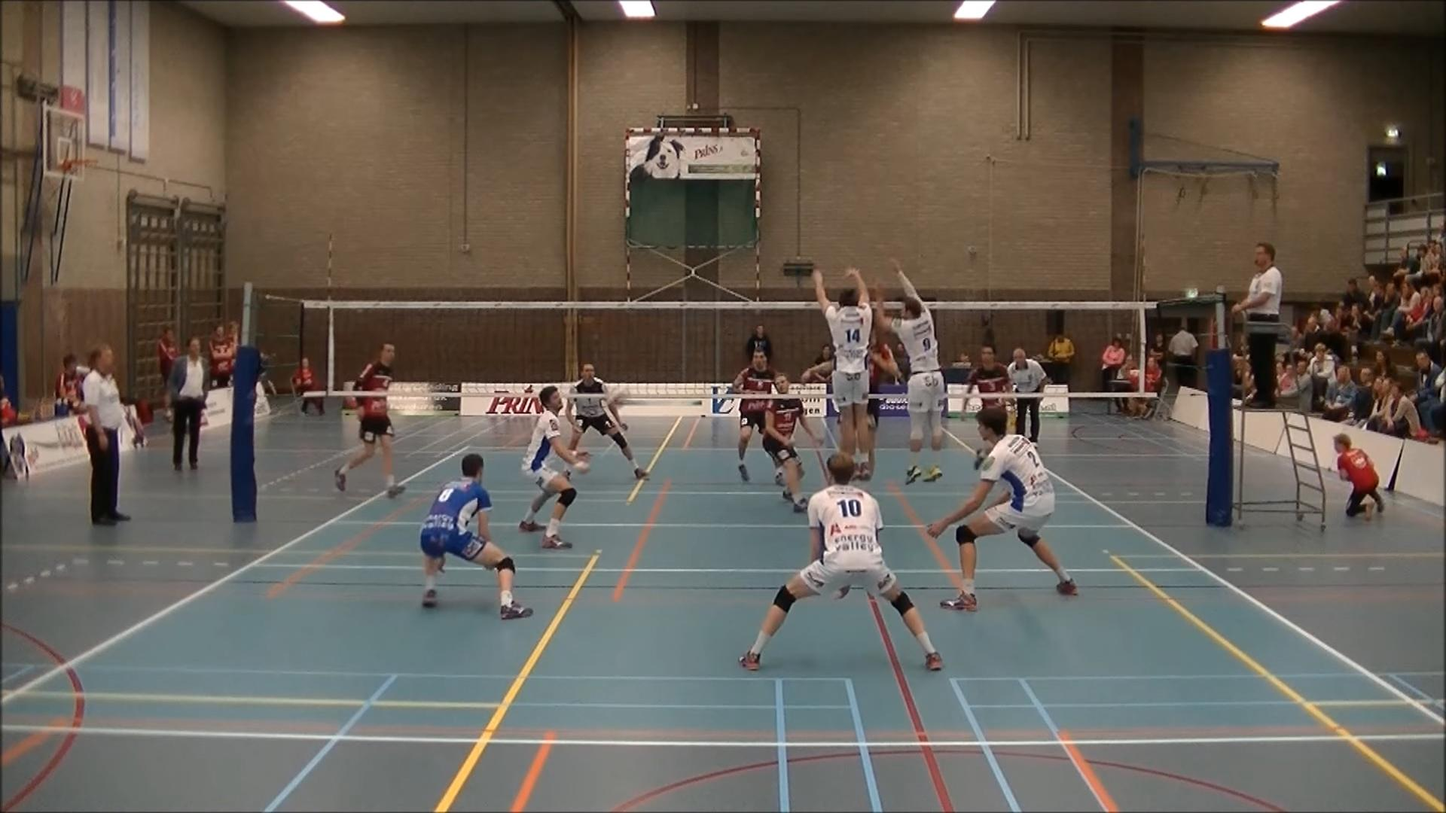muro: (861, 261, 952, 487), (810, 260, 877, 487)
